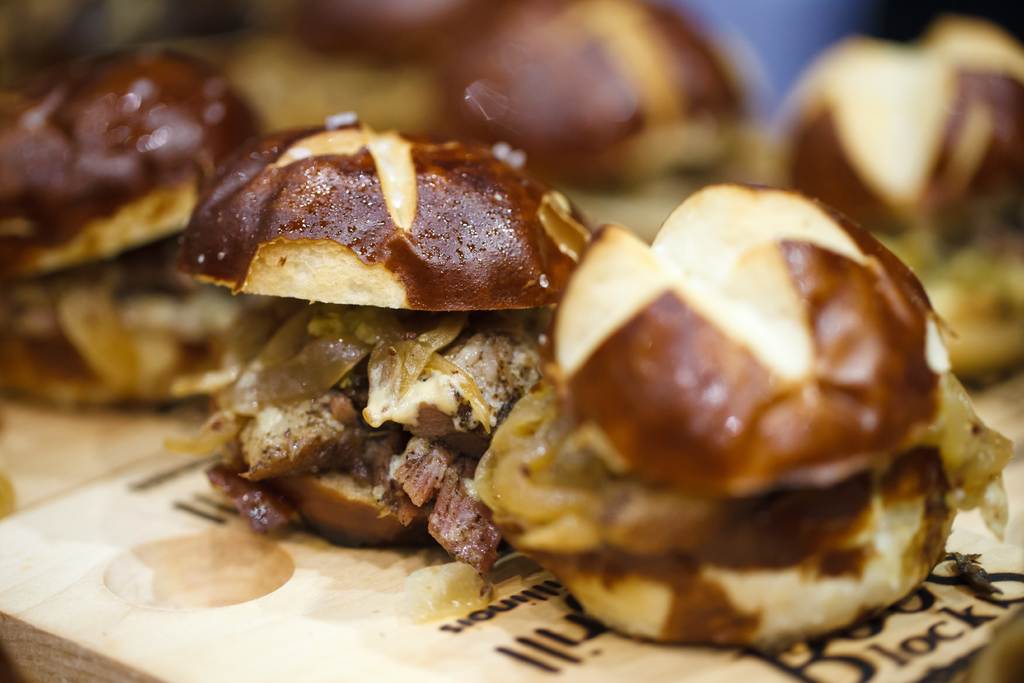Hamburger: (473, 188, 1016, 645), (172, 114, 562, 581), (750, 15, 1022, 380), (0, 46, 251, 404), (440, 0, 751, 239)
